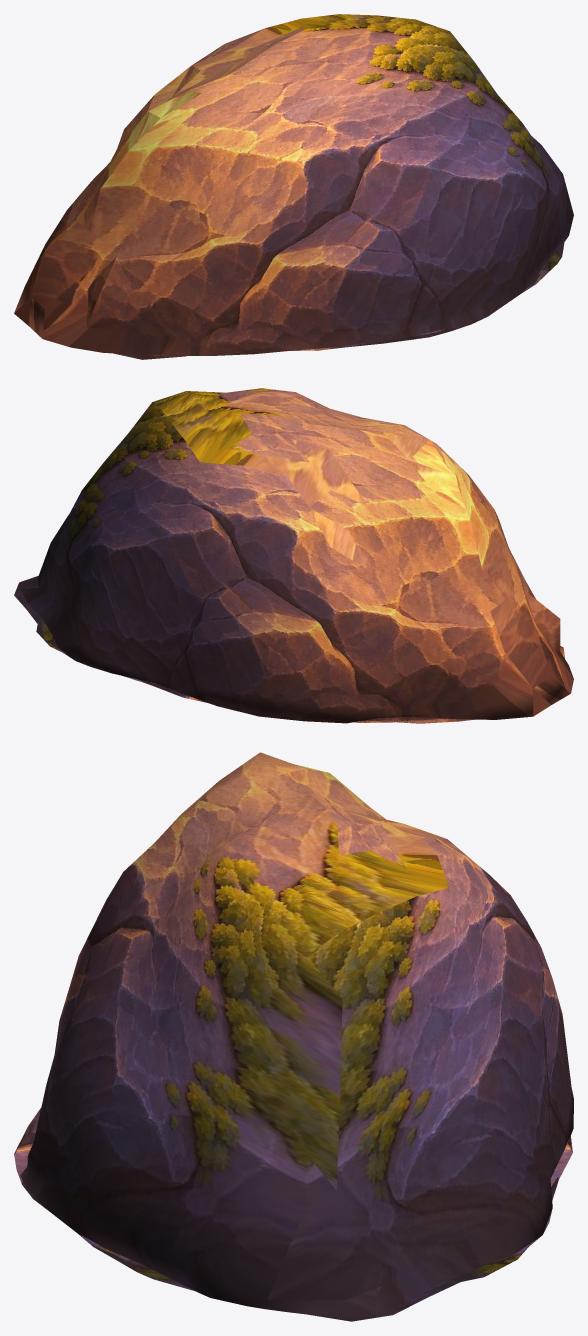
The model's file is rock.glb.
3 renders of one model, top to bottom at view 1: azimuth 30°, elevation 25°; view 2: azimuth 150°, elevation 25°; view 3: azimuth 270°, elevation 25°, orthographic. The views are drawn at different scales.
Visible parts, largest first — view 1: rock; view 2: rock; view 3: rock.
Part boxes in pixels (box(x1,y1,x2,y2)): rock: box(14, 14, 573, 359); rock: box(14, 388, 573, 723); rock: box(14, 752, 573, 1321).
Size of the model in its own units: 1.16 by 0.472 by 0.7445.
Materials: 1 (1 with a texture image).
